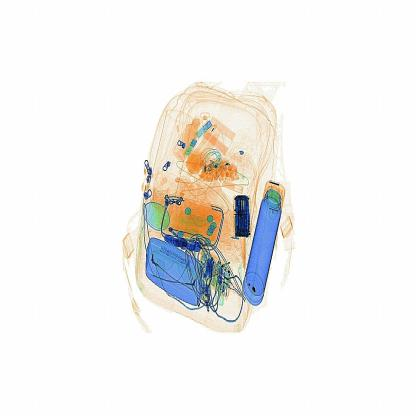scissors: (231, 184, 257, 246)
